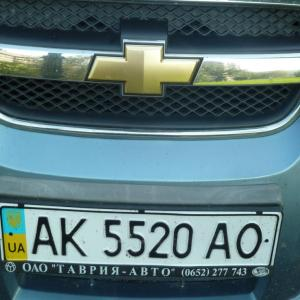Vehicle-registration-plate: (1, 208, 285, 277)
